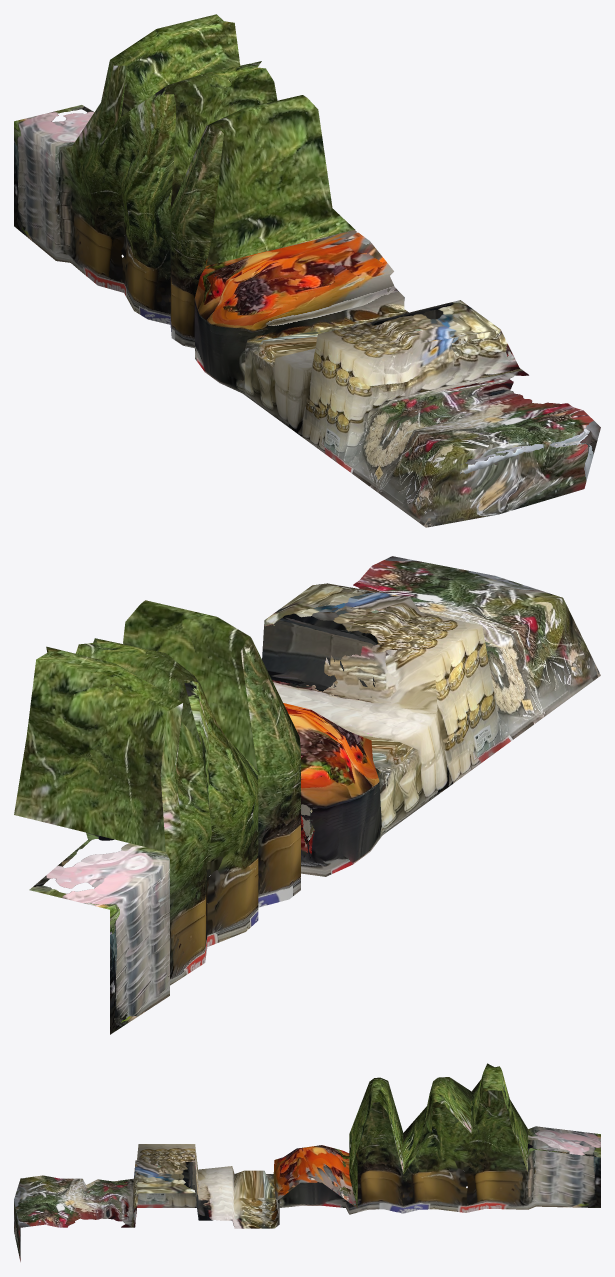
The model's file is MESH_MiscEntrance.fbx.
3 renders of one model, top to bottom at view 1: azimuth 30°, elevation 25°; view 2: azimuth 150°, elevation 25°; view 3: azimuth 270°, elevation 25°, orthographic. The views are drawn at different scales.
Parts seen in each view (by area): view 1: MESH_MiscEntrance; view 2: MESH_MiscEntrance; view 3: MESH_MiscEntrance.
Boxes of the visible parts, box(x1,y1,x2,y2) form: MESH_MiscEntrance: box(14, 14, 600, 527); MESH_MiscEntrance: box(14, 556, 600, 1034); MESH_MiscEntrance: box(14, 1063, 600, 1261).
Bounding box in the file's own units: 6.63 × 7.74 × 25.28.
Materials: 1 (1 with a texture image).
